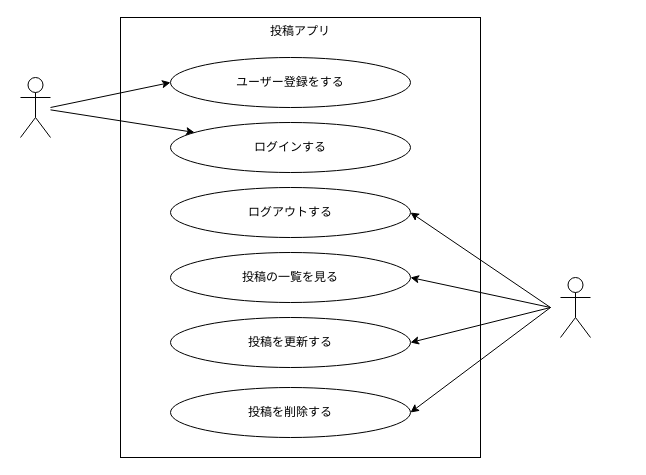
This 646x475 diagram has some shape labels left out. The centre of each missing label's shape, as x and y in pixels:
"ログイン済み利用者" goes at pixel 575 307.
"訪問者" goes at pixel 35 107.
